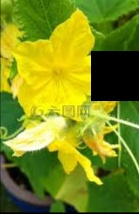cucumber_plant: (3, 5, 131, 211)
